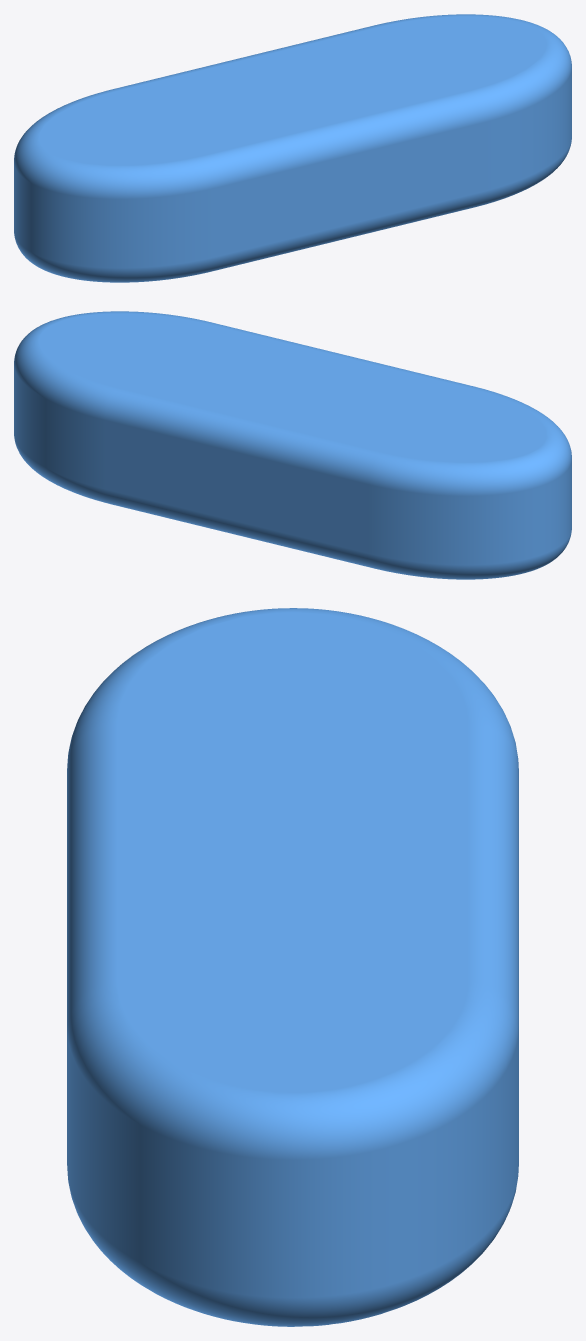
Rendered from blauw pil.glb.
The picture shows the model from 3 angles, top to bottom: view 1: azimuth 30°, elevation 25°; view 2: azimuth 150°, elevation 25°; view 3: azimuth 270°, elevation 25°; orthographic projection. The views are drawn at different scales.
Size of the model in its own units: 0.087 by 0.0178 by 0.0318.
